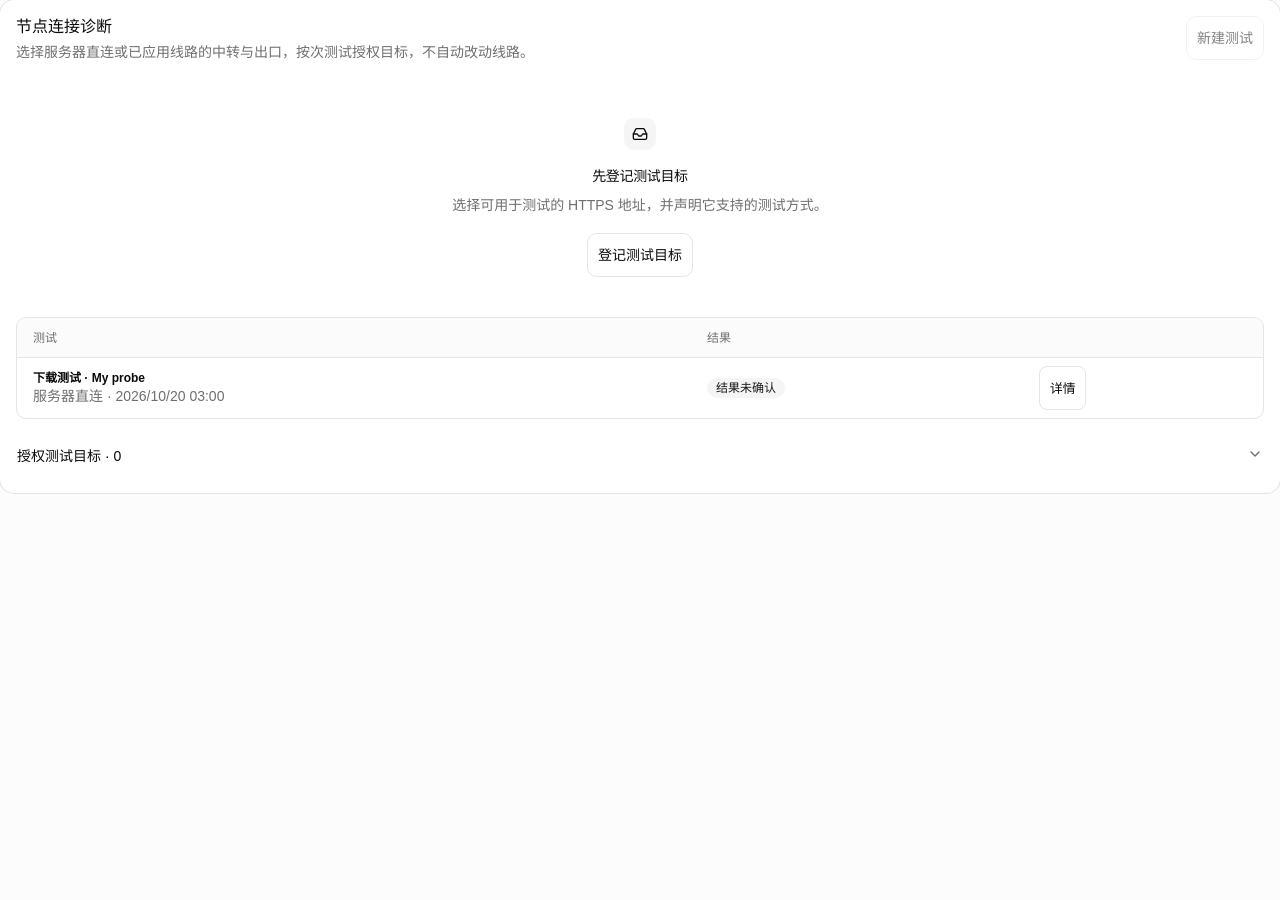
Scenario: shows an unconfirmed diagnostic outcome without inventing zero traffic or throughput
Check: the text "结果未确认" is shown, box [707,378,785,398]
Click the button with aria-label "查看测试结果" at coordinates (1063, 388), box [1039,366,1086,410]
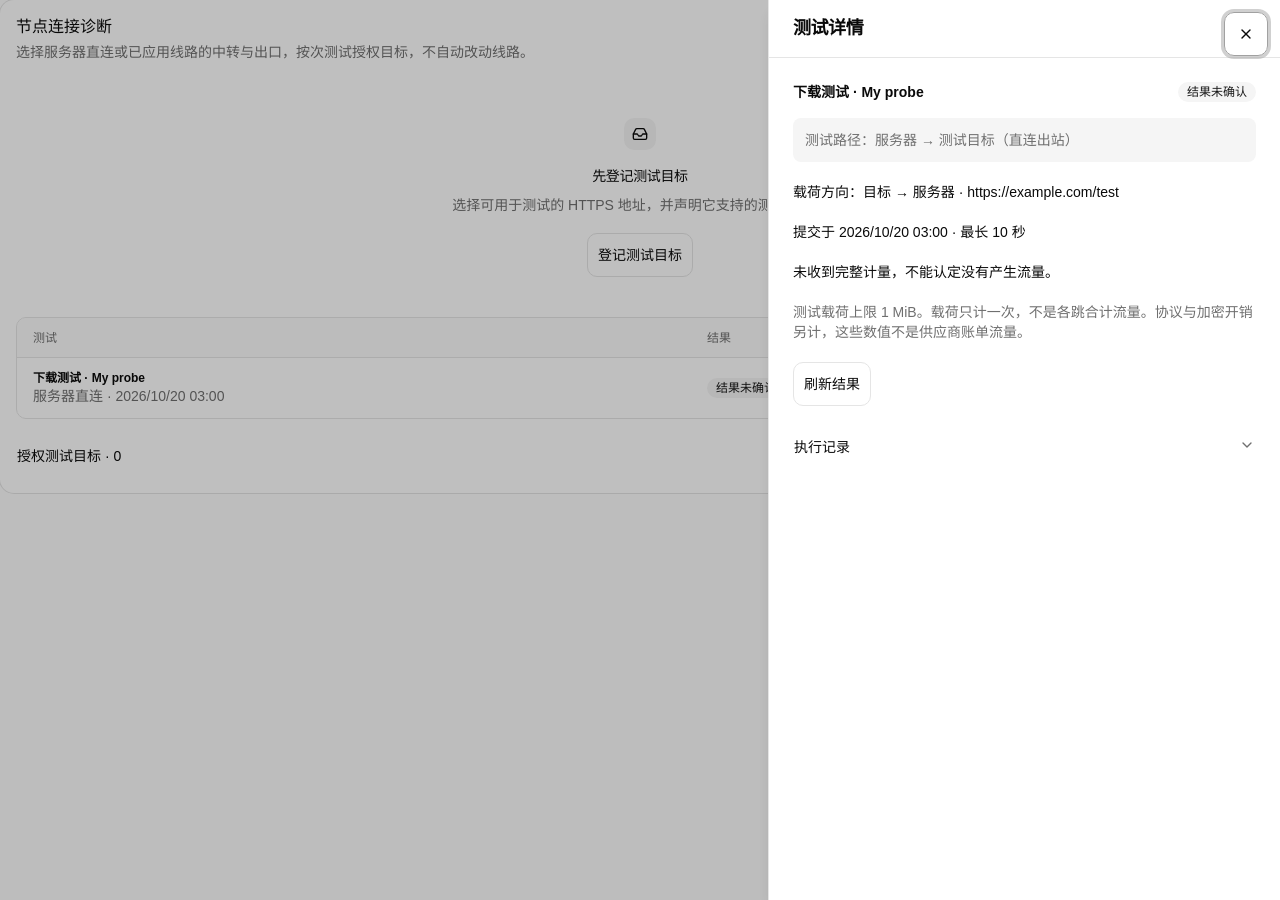
Check: the text "未收到完整计量，不能认定没有产生流量。" is shown, box [793,264,1059,280]
